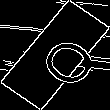O_NW: (18, 23, 92, 87)
